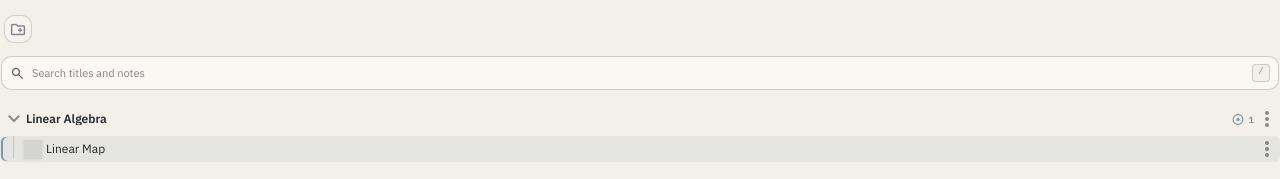
Scenario: ExplorerTree › renders compact folder rows and expands items
Expected: the button "Linear Algebra 1" is shown, [0,104,1279,134]
What coordinates should you click on to do the following:
click the button named "Collapse folder"
I would click on:
 (14, 119)
Its box is [5,110,23,128].
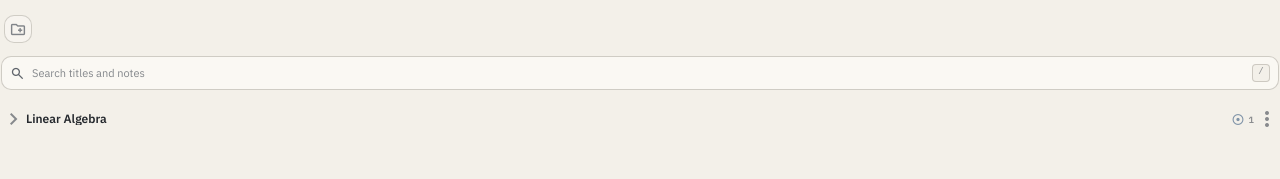
Now the text "Linear Map" is gone
